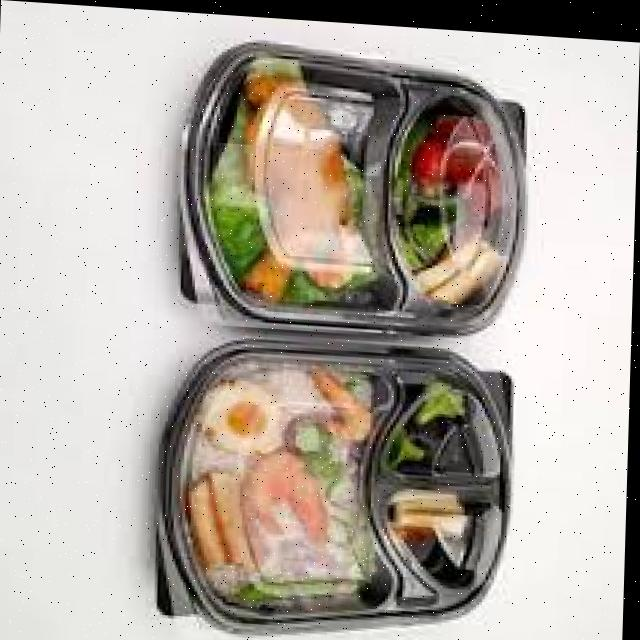disposable: (151, 35, 557, 354), (129, 327, 530, 634)
